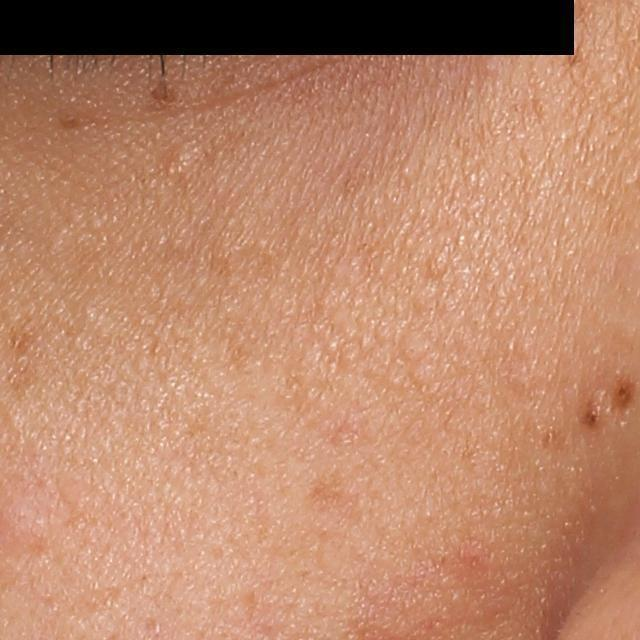comedo: (167, 147, 197, 174)
melasma: (278, 371, 331, 418), (562, 38, 584, 67), (57, 107, 84, 129)
nevus: (575, 397, 609, 436), (609, 371, 638, 414)
